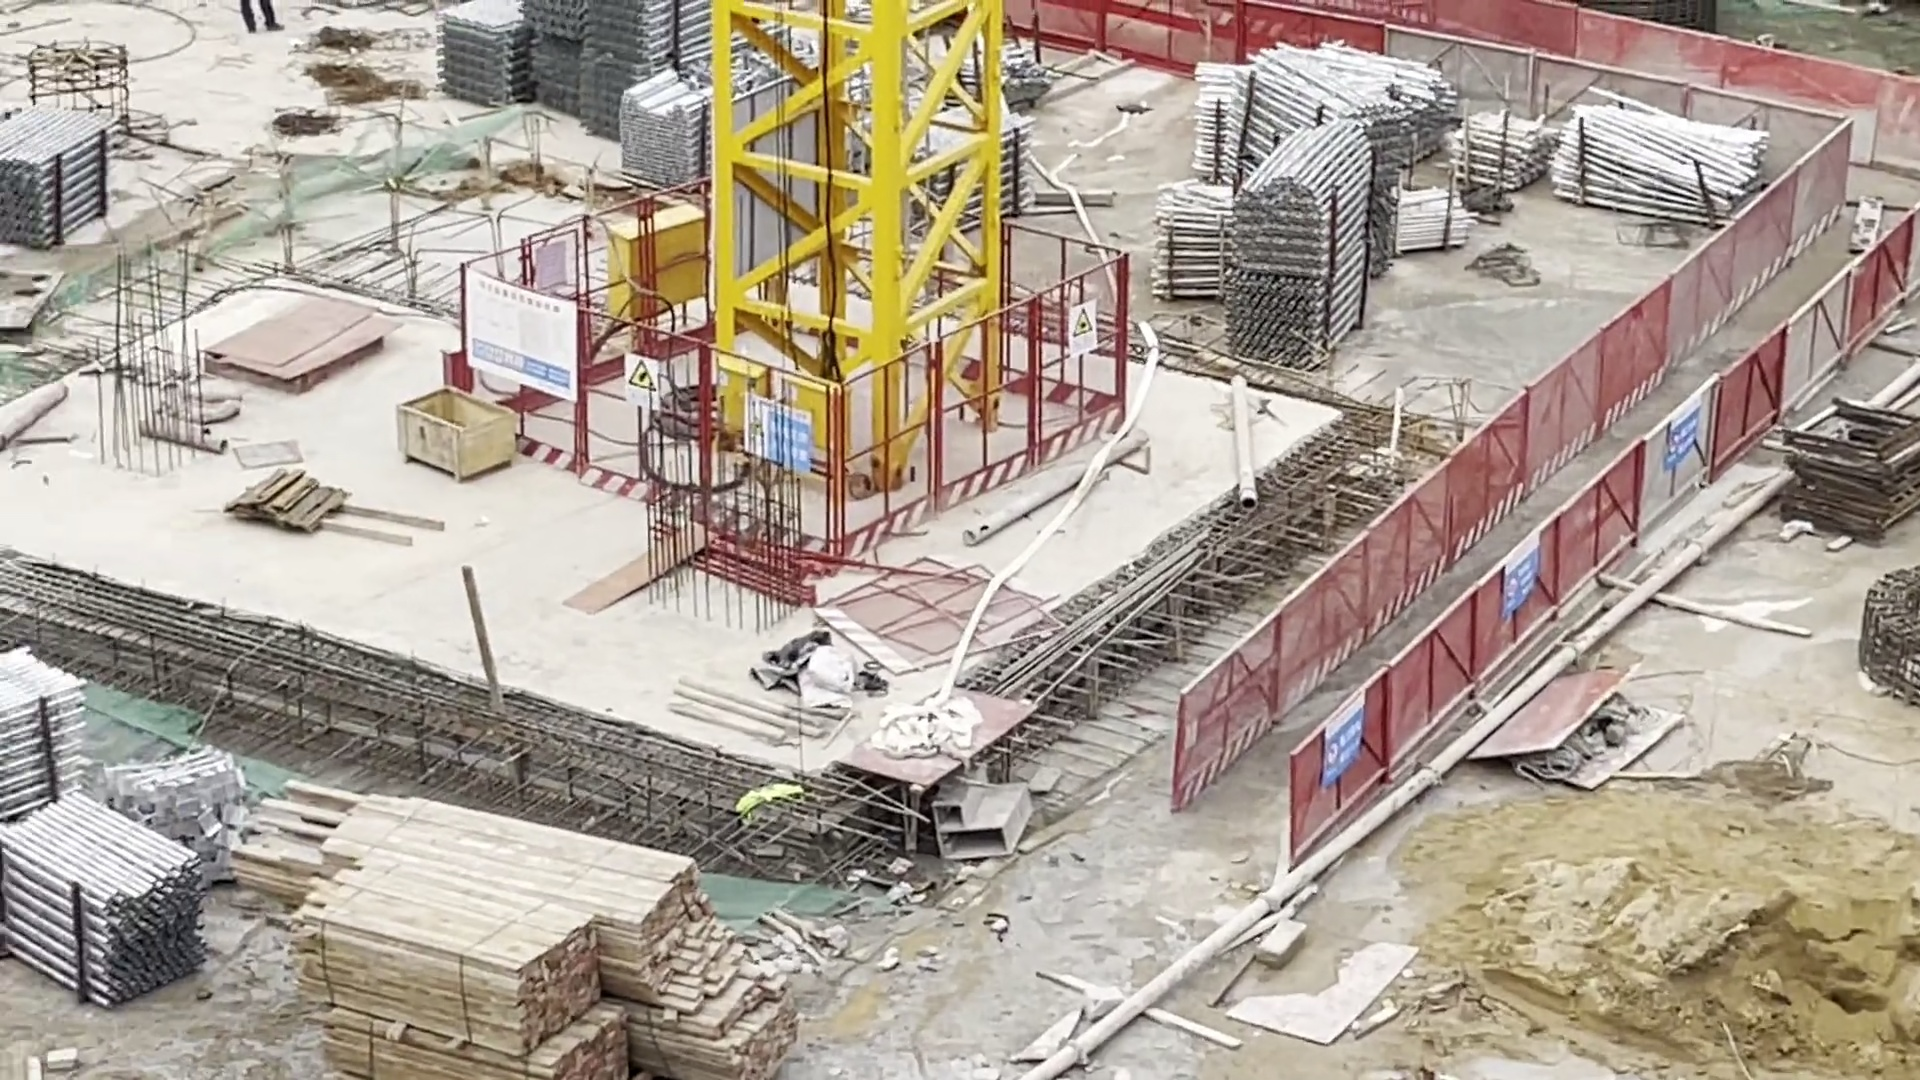ebox: (596, 196, 735, 324)
fence: (425, 135, 1156, 570), (452, 189, 1200, 578), (1196, 439, 1673, 866), (1478, 1, 1854, 496), (1213, 425, 1586, 829), (1575, 182, 1892, 537), (947, 1, 1524, 95)
scaffold: (7, 808, 233, 1018), (1557, 95, 1758, 233), (1200, 54, 1451, 157), (1229, 171, 1338, 375), (530, 1, 671, 136), (1, 91, 120, 251), (1, 625, 92, 796), (615, 73, 717, 203), (431, 3, 533, 119), (1453, 109, 1549, 216), (1167, 177, 1229, 303), (1378, 182, 1470, 249)
slogan: (459, 253, 585, 415), (735, 394, 851, 489), (1307, 684, 1396, 765), (1491, 520, 1553, 626), (1065, 286, 1127, 381), (1665, 392, 1710, 504), (622, 353, 659, 407)
wood: (378, 800, 823, 1080), (301, 876, 611, 1036), (328, 1007, 632, 1080)
